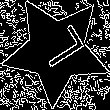L_SW: (28, 24, 85, 77)
